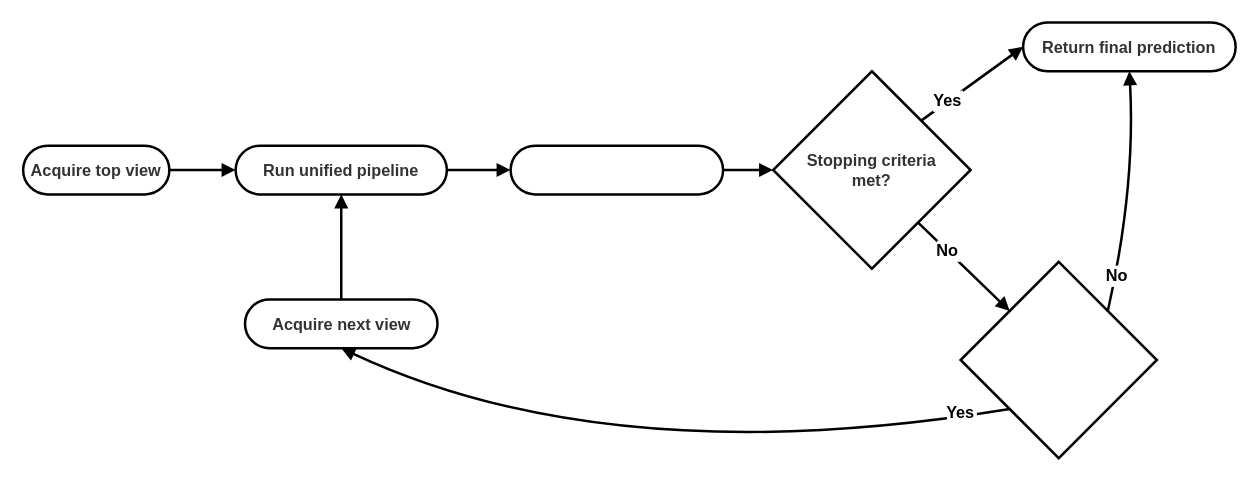
Some shapes in this 1258 by 481 pixel diagram are drawn without their labels. The shapes that lost their labels are listed below. From the top down, each one's centre as x and y in pixels, then its label:
At [616,169]: "Update fused prediction".
At [1058,359]: "More views available?".
